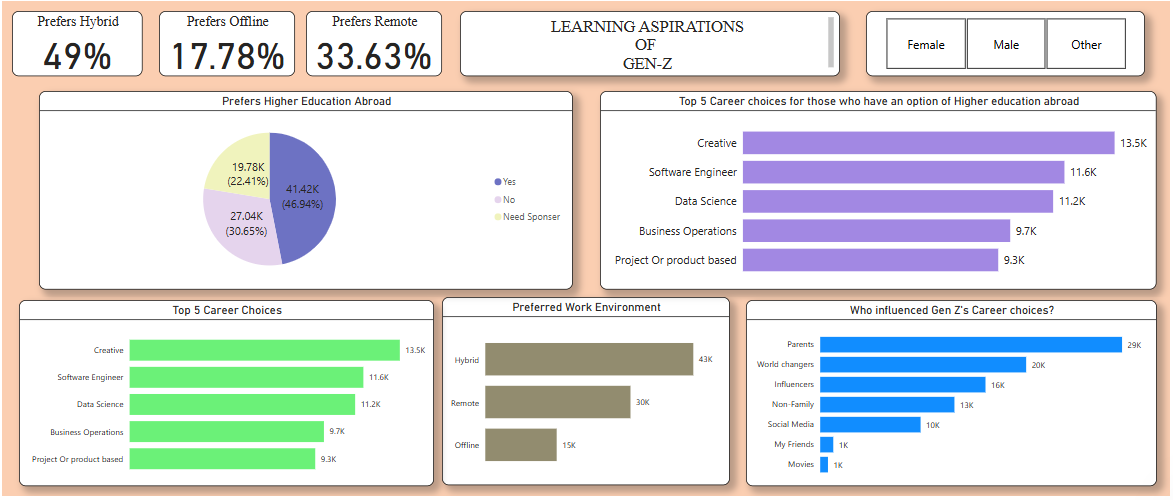

The dashboard page shown, as its layout file describes it:
{"tool":"powerbi","page":{"name":"Page 3","canvas":[1700,720],"ordinal":2},"visuals":[{"type":"shape","box":[11.1,0,1673.1,102.7],"z":0},{"type":"textbox","box":[319.9,11,786,80.4],"z":1000},{"type":"slicer","fields":{"Values":["Form responses 1.Gender"]},"box":[1096.5,20.5,451.9,61.6],"z":2000},{"type":"cardVisual","fields":{"Data":["Form responses 1.Hybride","Form responses 1.Offline","Form responses 1.Remote"]},"box":[11,115.2,939.6,120.6],"z":3000},{"type":"donutChart","title":"Prefers Higher Education Abroad","fields":{"Y":["CountNonNull(Form responses 1.Higher Education)"],"Category":["Form responses 1.Higher Education"]},"box":[11,243.1,442.4,221.2],"z":4000},{"type":"barChart","title":"Top 5 Career choices for those who have an option of Higher education abroad","fields":{"Category":["Form responses 1.Career Closest to Your Aspirational Job"],"Y":["CountNonNull(Form responses 1.Higher Education)"]},"box":[950.5,115.2,733,285.2],"z":5000},{"type":"barChart","title":"Who influenced Gen Z''s Career choices?","fields":{"Category":["Form responses 1.Influencing Factors"],"Y":["CountNonNull(Form responses 1.Influencing Factors)"]},"box":[950.5,414.9,733,305.3],"z":6000},{"type":"barChart","title":"Preferred Work Environment","fields":{"Category":["Form responses 1.Work Mode"],"Y":["CountNonNull(Form responses 1.Work Mode)"]},"box":[466.1,243.1,471.6,221.2],"z":7000},{"type":"barChart","title":"Top 5 Career Choices","fields":{"Category":["Form responses 1.Career Closest to Your Aspirational Job"],"Y":["CountNonNull(Form responses 1.Career Closest to Your Aspirational Job)"]},"box":[11.3,472,926.9,248],"z":8000}]}

Visuals, with their boxes in screenshot pixels (x1, y1, x2, y2), scaled from the page's 1700x720 canvas onto the 1173x500 screenshot:
shape: bbox=(8, 0, 1162, 71)
textbox: bbox=(221, 8, 763, 63)
slicer - Form responses 1.Gender: bbox=(757, 14, 1068, 57)
cardVisual - Form responses 1.Hybride x Form responses 1.Offline: bbox=(8, 80, 656, 164)
"Prefers Higher Education Abroad" donutChart: bbox=(8, 169, 313, 322)
"Top 5 Career choices for those who have an option of Higher education abroad" barChart: bbox=(656, 80, 1162, 278)
"Who influenced Gen Z''s Career choices?" barChart: bbox=(656, 288, 1162, 499)
"Preferred Work Environment" barChart: bbox=(322, 169, 647, 322)
"Top 5 Career Choices" barChart: bbox=(8, 328, 647, 499)
